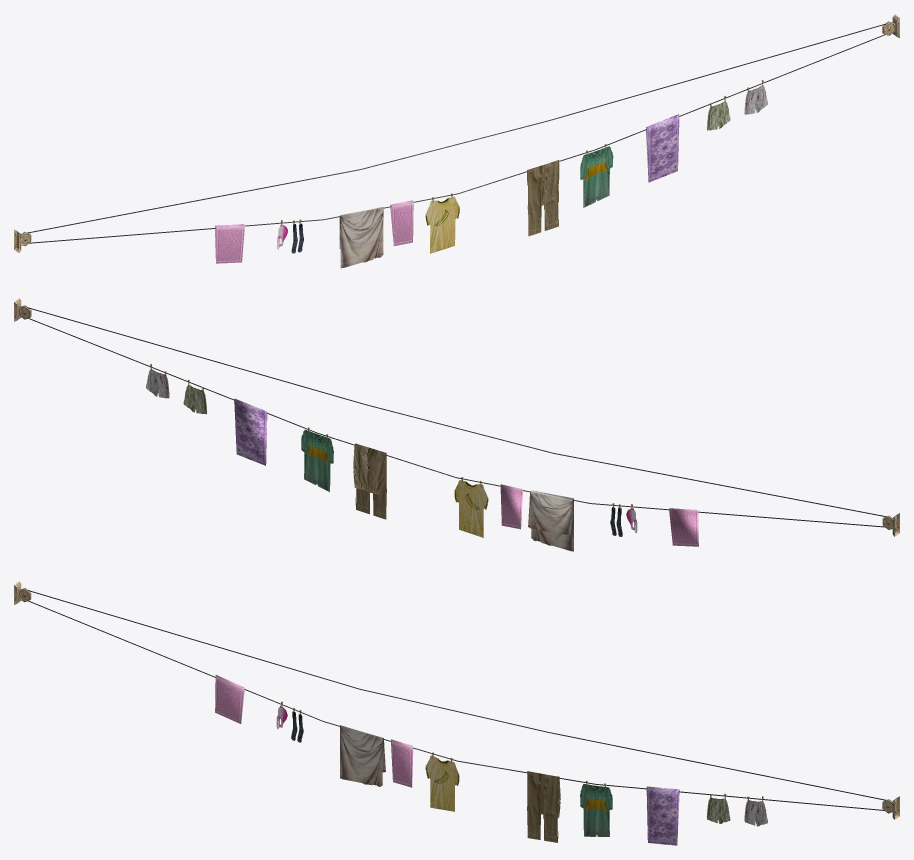
The model's file is laundryline_10.fbx.
3 views of the same model, one above another, from view 1: azimuth 30°, elevation 25°; view 2: azimuth 150°, elevation 25°; view 3: azimuth 330°, elevation 25° (orthographic).
Visible parts, largest first — view 1: mesh_0; view 2: mesh_0; view 3: mesh_0.
Boxes of the visible parts, x1,y1,x2,y2 form: mesh_0: (14,14,899,268); mesh_0: (14,298,899,551); mesh_0: (14,581,899,845).
Bounding box in the file's own units: 1000 × 141 × 10.
1 material, 1 textured.
